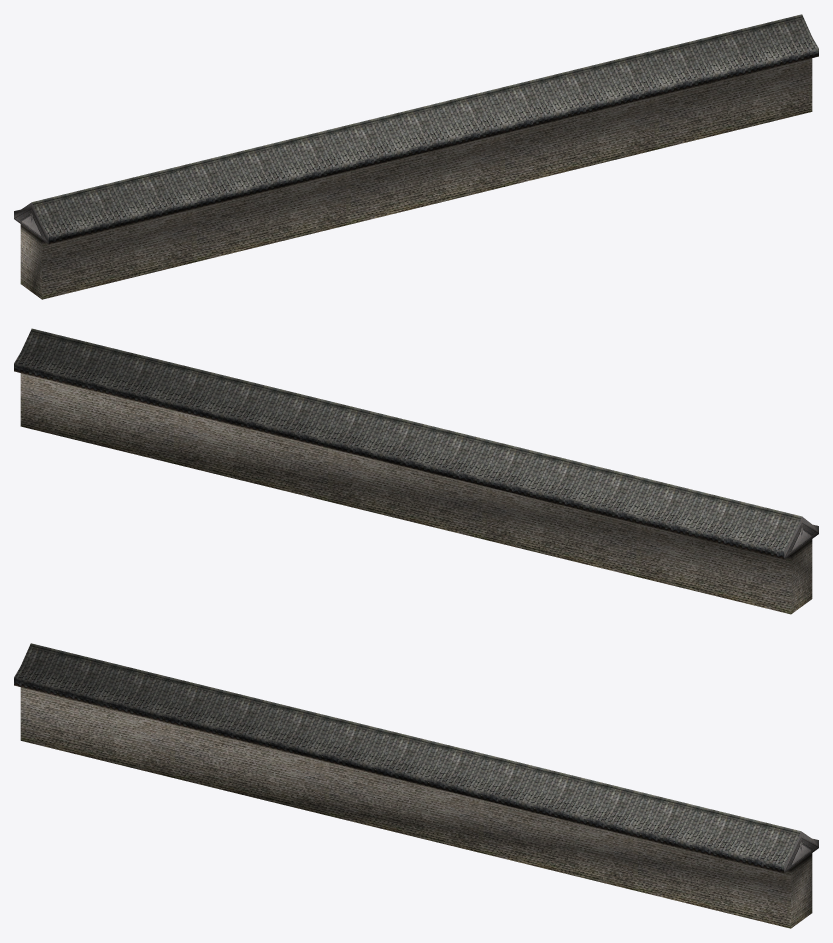
The model's file is cj_rich4_leftdam_1.glb.
3 renders of one model, top to bottom at view 1: azimuth 30°, elevation 25°; view 2: azimuth 150°, elevation 25°; view 3: azimuth 330°, elevation 25°, orthographic.
Parts seen in each view (by area): view 1: CJ_rich4_leftdam_1; view 2: CJ_rich4_leftdam_1; view 3: CJ_rich4_leftdam_1.
Boxes of the visible parts, box(x1,y1,x2,y2) form: CJ_rich4_leftdam_1: box(14, 14, 818, 299); CJ_rich4_leftdam_1: box(14, 328, 818, 614); CJ_rich4_leftdam_1: box(14, 643, 818, 928).
Bounding box in the file's own units: 20.53 × 2.29 × 1.6.
Materials: 1 (1 with a texture image).
